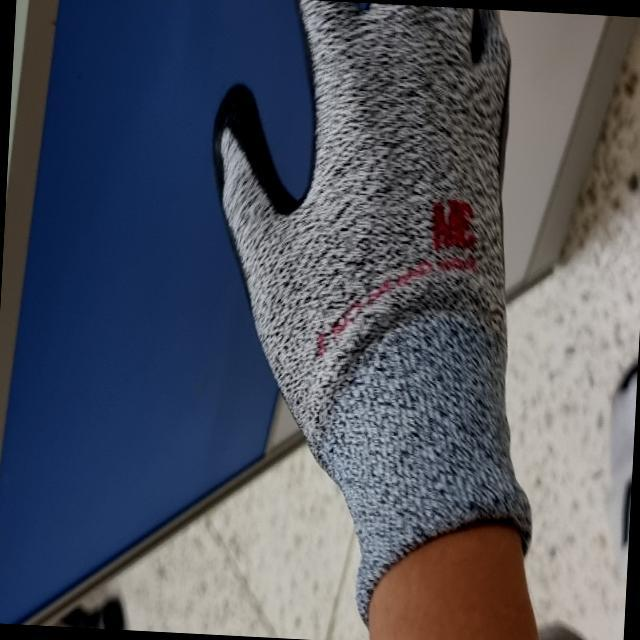Gloves: (210, 0, 544, 640)
